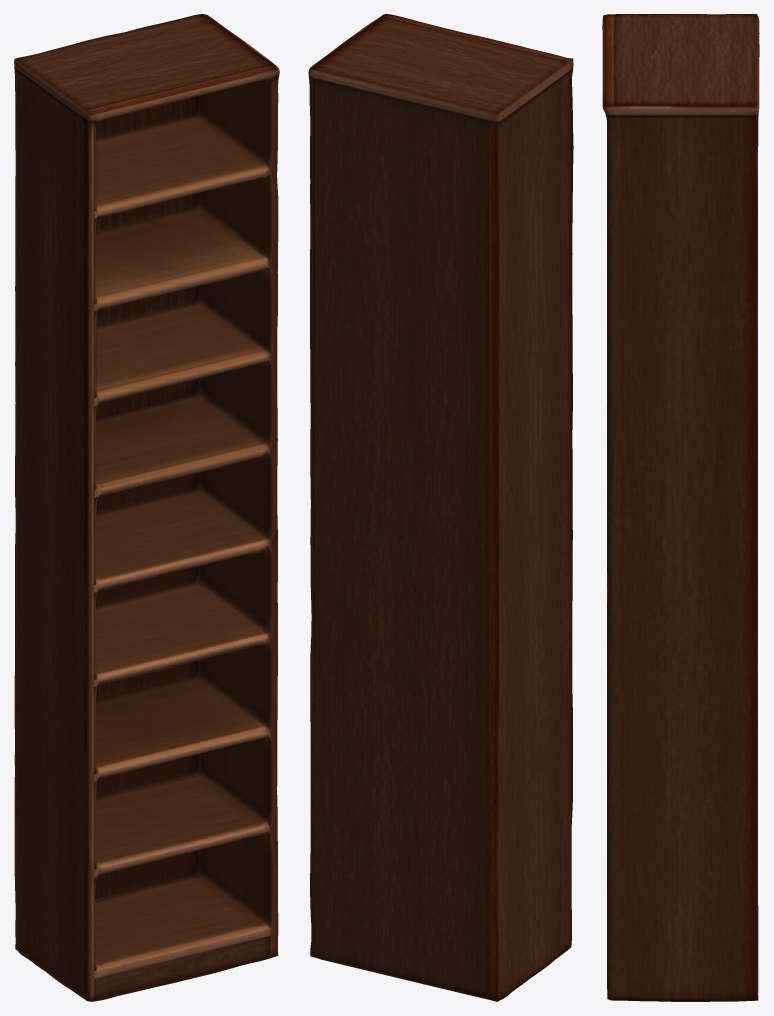
The model's file is BookShelf.fbx.
3 renders of one model, left to right at view 1: azimuth 30°, elevation 25°; view 2: azimuth 150°, elevation 25°; view 3: azimuth 270°, elevation 25°, orthographic.
Visible parts, largest first — view 1: tripo_node_893574ed; view 2: tripo_node_893574ed; view 3: tripo_node_893574ed.
Boxes of the visible parts, x1,y1,x2,y2 form: tripo_node_893574ed: (14,14,279,1001); tripo_node_893574ed: (308,14,573,1001); tripo_node_893574ed: (602,14,759,1001).
Size of the model in its own units: 0.2221 by 0.9801 by 0.1558.
1 material, 1 textured.
